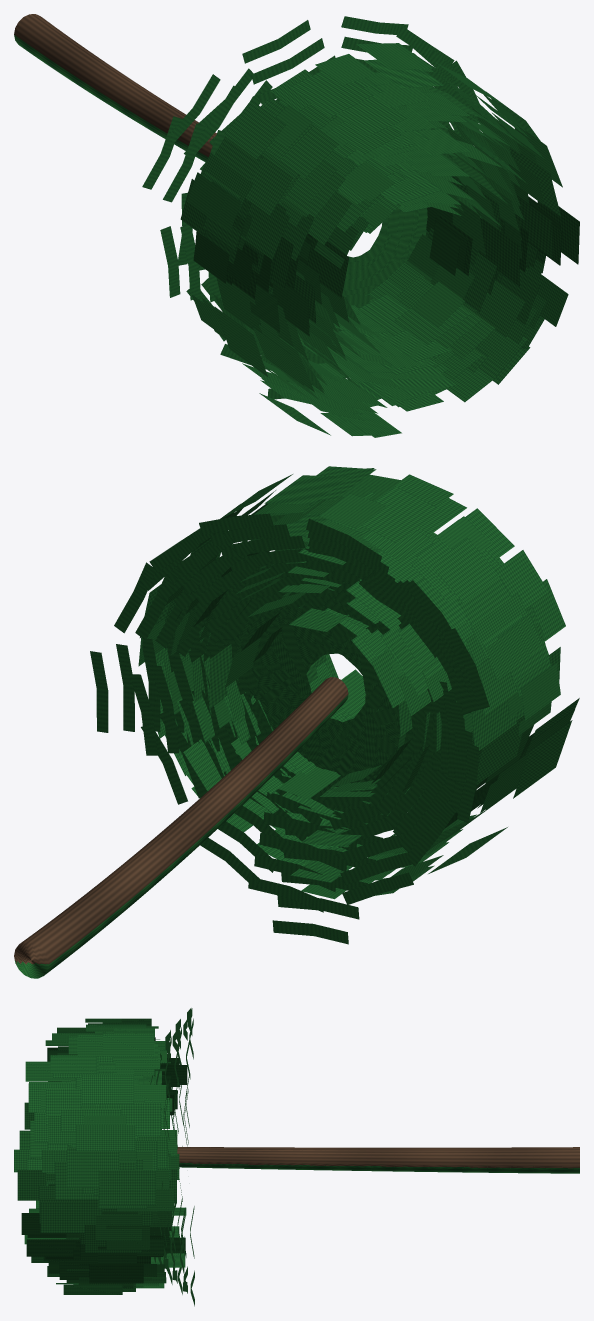
Rendered from veg_tropical_palm_01.glb.
The picture shows the model from 3 angles, top to bottom: view 1: azimuth 30°, elevation 25°; view 2: azimuth 150°, elevation 25°; view 3: azimuth 270°, elevation 25°; orthographic projection. The views are drawn at different scales.
Visible parts, largest first — view 1: veg_tropical_palm_01; view 2: veg_tropical_palm_01; view 3: veg_tropical_palm_01.
Boxes of the visible parts, x1,y1,x2,y2 form: veg_tropical_palm_01: [14, 14, 579, 437]; veg_tropical_palm_01: [14, 466, 579, 978]; veg_tropical_palm_01: [14, 1008, 579, 1306].
Size of the model in its own units: 2.97 by 2.98 by 5.5.
Materials: 1 (1 with a texture image).
